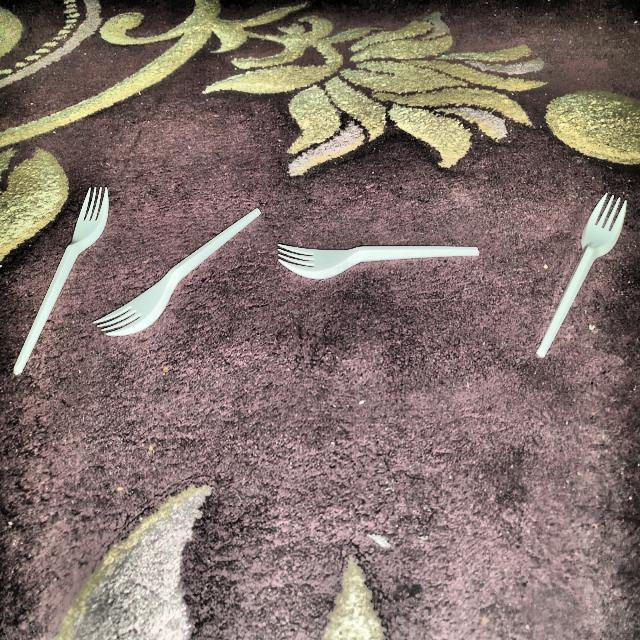plastic utensil: (108, 203, 266, 343), (15, 185, 112, 379), (534, 191, 631, 365), (270, 232, 490, 288)
